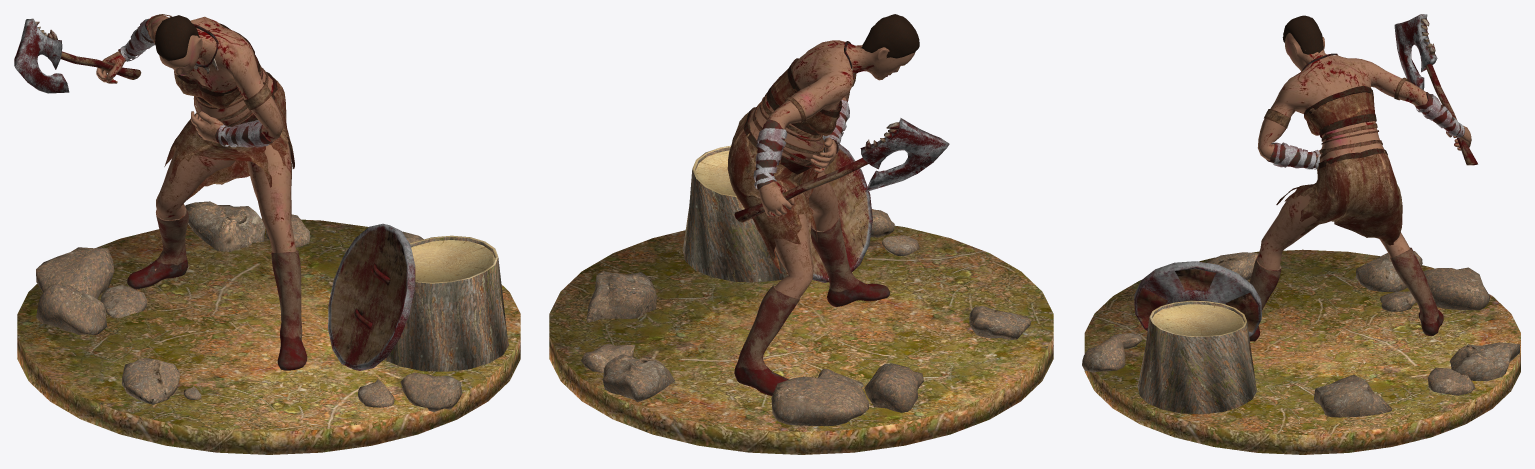
Rendered from rihanna.glb.
3 renders of one model, left to right at view 1: azimuth 30°, elevation 25°; view 2: azimuth 150°, elevation 25°; view 3: azimuth 270°, elevation 25°, orthographic. The views are drawn at different scales.
Visible parts, largest first — view 1: Peana, Pedres, RihannaLowBody, Tronc, Escut, Botes, Roba, Hacha, Mangas, RihannaLowHair, Cinturons, CintesGrans; view 2: Peana, Pedres, RihannaLowBody, Tronc, Botes, Roba, Hacha, Escut, Mangas, RihannaLowHair, CintesGrans, Cinturons; view 3: Peana, Pedres, Tronc, RihannaLowBody, Roba, Escut, Botes, Hacha, Mangas, CintesGrans, Cinturons, RihannaLowHair.
Part boxes in pixels (left/top/right/bottom): Peana: left=17, top=218, right=520, bottom=454; Pedres: left=36, top=201, right=462, bottom=411; RihannaLowBody: left=96, top=14, right=296, bottom=270; Tronc: left=384, top=235, right=508, bottom=371; Escut: left=328, top=223, right=415, bottom=370; Botes: left=127, top=204, right=307, bottom=370; Roba: left=164, top=56, right=294, bottom=199; Hacha: left=14, top=18, right=141, bottom=93; Mangas: left=118, top=15, right=273, bottom=147; RihannaLowHair: left=155, top=15, right=199, bottom=60; Cinturons: left=148, top=14, right=271, bottom=126; CintesGrans: left=176, top=23, right=277, bottom=126; Peana: left=549, top=225, right=1053, bottom=454; Pedres: left=581, top=209, right=1031, bottom=425; RihannaLowBody: left=749, top=40, right=915, bottom=372; Tronc: left=682, top=145, right=788, bottom=282; Botes: left=734, top=215, right=889, bottom=395; Roba: left=727, top=69, right=840, bottom=273; Hacha: left=734, top=118, right=949, bottom=222; Escut: left=806, top=136, right=872, bottom=282; Mangas: left=753, top=99, right=849, bottom=190; RihannaLowHair: left=861, top=14, right=919, bottom=58; CintesGrans: left=743, top=58, right=842, bottom=174; Cinturons: left=752, top=74, right=856, bottom=162; Peana: left=1084, top=249, right=1520, bottom=454; Pedres: left=1082, top=250, right=1519, bottom=417; Tronc: left=1137, top=300, right=1256, bottom=414; RihannaLowBody: left=1257, top=33, right=1471, bottom=270; Roba: left=1276, top=91, right=1402, bottom=245; Escut: left=1134, top=261, right=1262, bottom=337; Botes: left=1249, top=247, right=1443, bottom=341; Hacha: left=1394, top=14, right=1477, bottom=165; Mangas: left=1266, top=92, right=1464, bottom=169; CintesGrans: left=1304, top=86, right=1387, bottom=168; Cinturons: left=1264, top=77, right=1408, bottom=161; RihannaLowHair: left=1282, top=15, right=1323, bottom=54.
Bounding box in the file's own units: 2 × 1.54 × 2.
14 materials, 14 textured.
